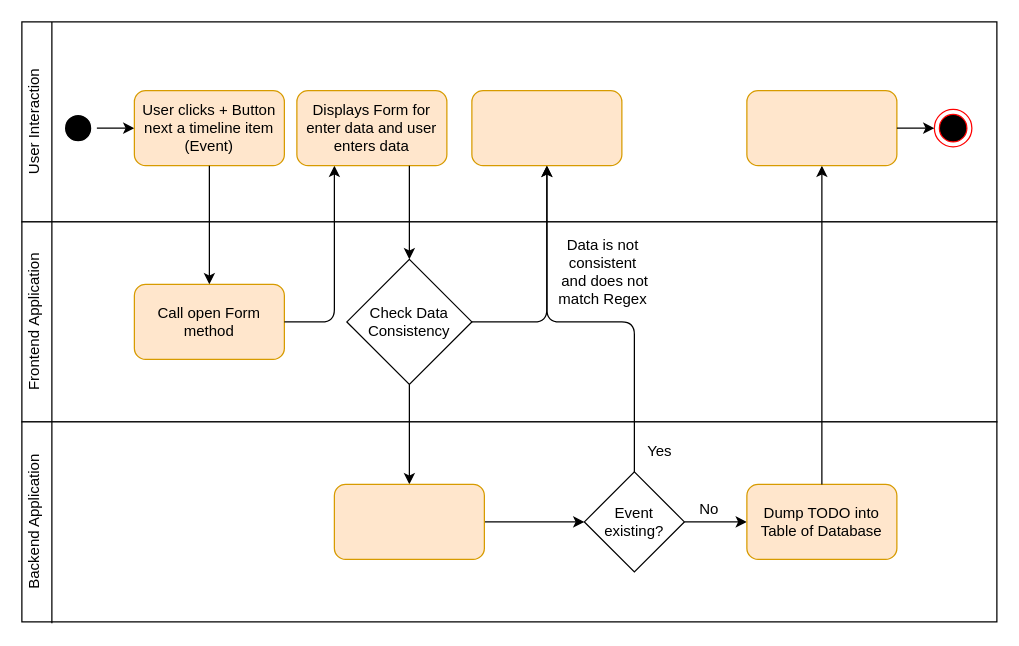
The diagram is 1019 pixels wide and 646 high, and some of its shapes have lost their labels. The centre of each missing label's shape, as x and y in pixels:
"Add TODO to an according event" goes at (x=408, y=521).
"Displays Error Form" goes at (x=546, y=127).
"Reload TODO's of Event" goes at (x=821, y=127).
